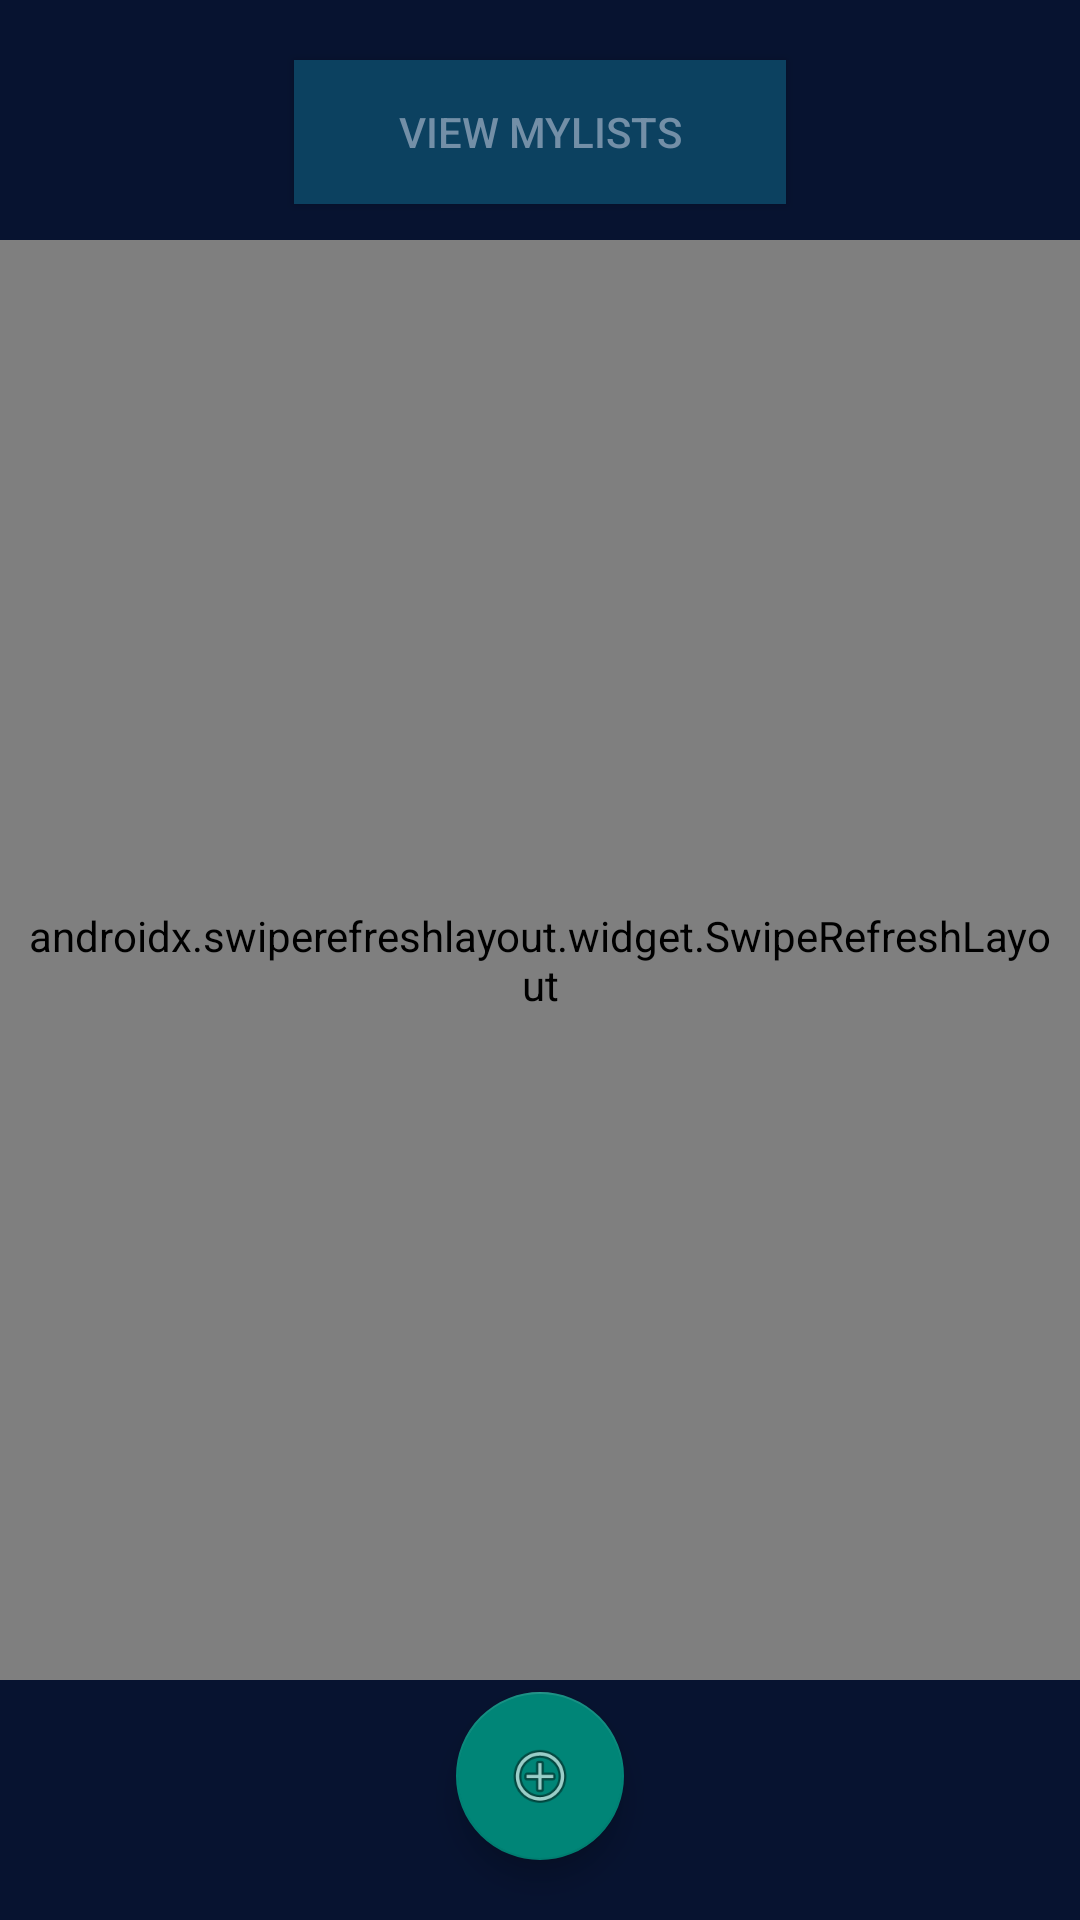

Screen size 1080 × 1920. Icon name, then its box in pixels as {"x1": x1, "y1": y1, "x2": x2, "y2": y2}:
add: {"x1": 456, "y1": 1692, "x2": 624, "y2": 1860}
